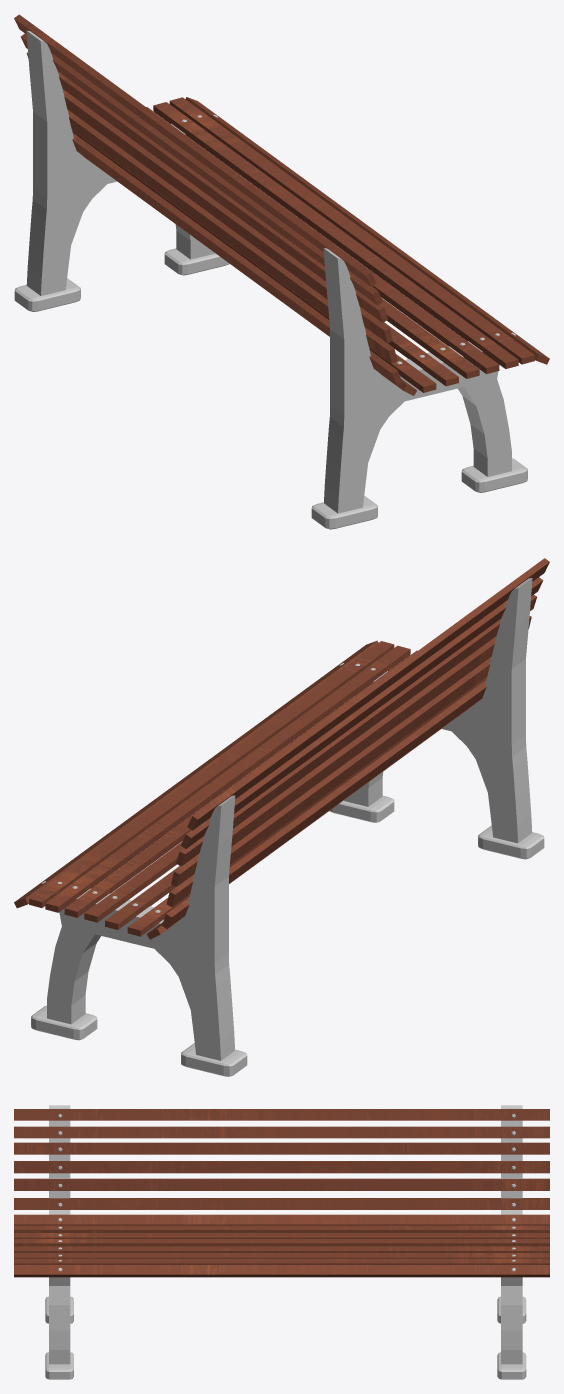
The picture shows the model from 3 angles, top to bottom: view 1: azimuth 30°, elevation 25°; view 2: azimuth 150°, elevation 25°; view 3: azimuth 270°, elevation 25°; orthographic projection. The views are drawn at different scales.
Visible parts, largest first — view 1: Banco_LOD1; view 2: Banco_LOD1; view 3: Banco_LOD1.
Boxes of the visible parts, left/top/right/bottom form: Banco_LOD1: left=14, top=14, right=549, bottom=529; Banco_LOD1: left=14, top=558, right=549, bottom=1076; Banco_LOD1: left=14, top=1105, right=549, bottom=1379.
Bounding box in the file's own units: 59.05 × 75.03 × 178.
